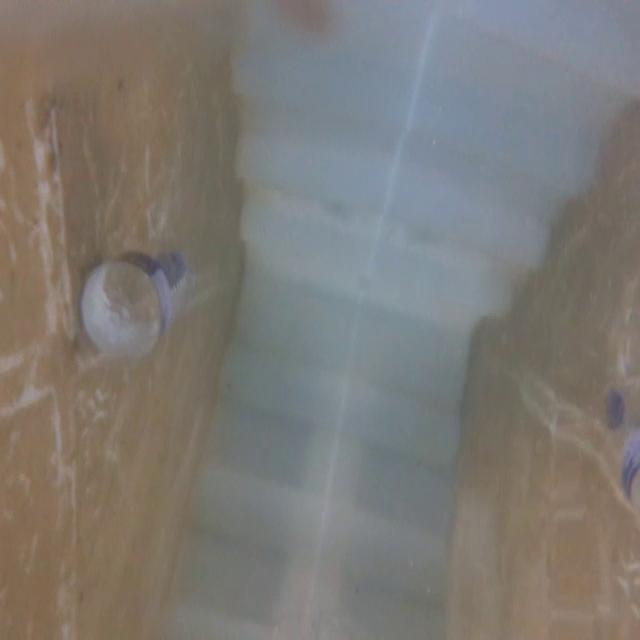plastic bottle: (58, 221, 198, 392)
